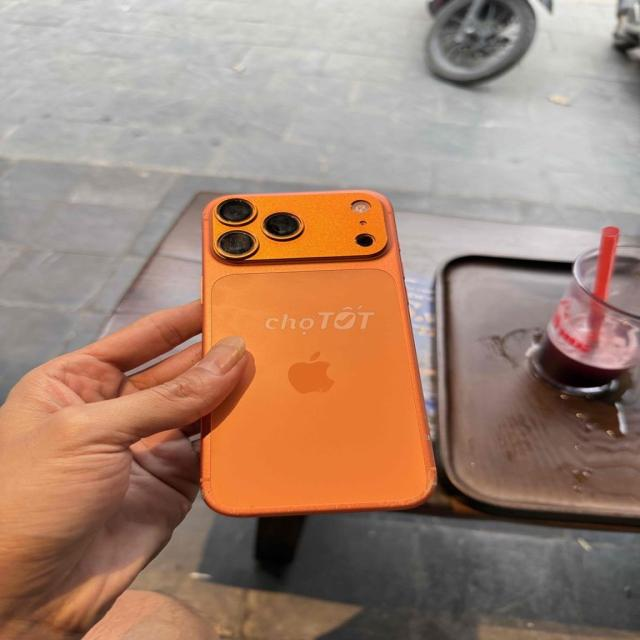gen_17: (197, 159, 451, 518)
